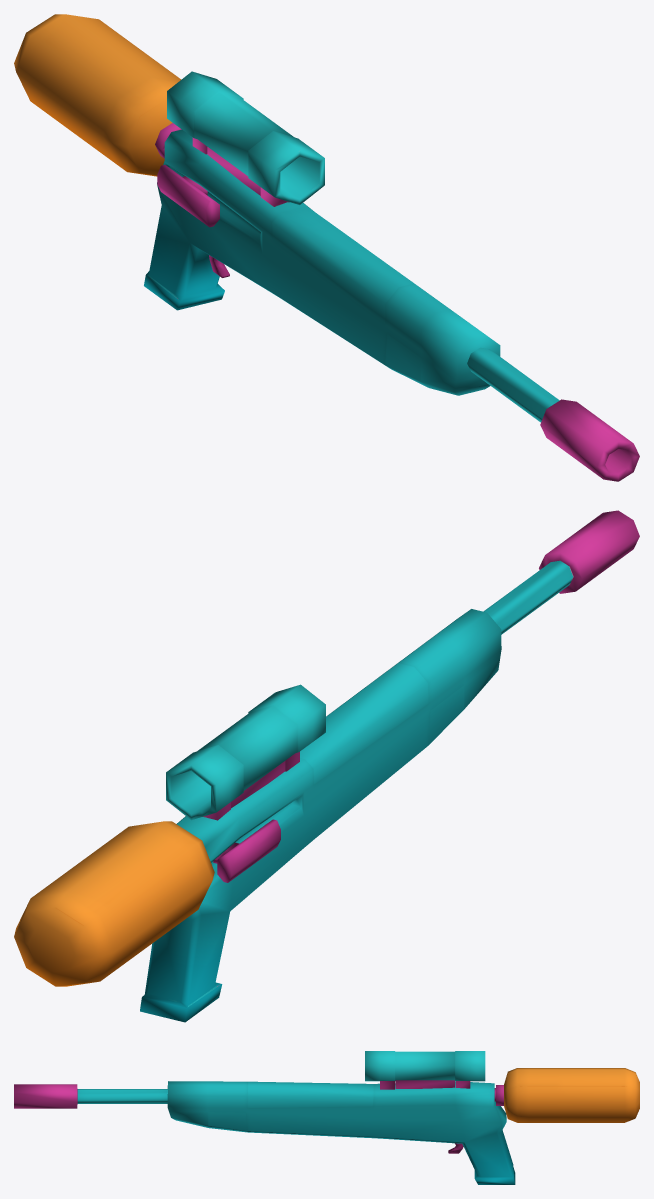
The model's file is RifleGunfix.glb.
3 renders of one model, top to bottom at view 1: azimuth 30°, elevation 25°; view 2: azimuth 150°, elevation 25°; view 3: azimuth 270°, elevation 25°, orthographic. The views are drawn at different scales.
Parts seen in each view (by area): view 1: Body.001, Barrel, Scope, Muzzle.001, Reload Handle; view 2: Body.001, Barrel, Scope, Muzzle.001, Reload Handle; view 3: Body.001, Barrel, Scope, Muzzle.001.
Part boxes in pixels (x1,y1,x2,y2): Body.001: [144, 129, 500, 395]; Barrel: [14, 14, 181, 176]; Scope: [167, 71, 324, 206]; Muzzle.001: [467, 347, 639, 481]; Reload Handle: [157, 165, 219, 227]; Body.001: [140, 609, 501, 1022]; Barrel: [14, 821, 214, 986]; Scope: [166, 684, 325, 820]; Muzzle.001: [483, 510, 639, 634]; Reload Handle: [213, 819, 280, 882]; Body.001: [167, 1081, 515, 1184]; Barrel: [496, 1068, 639, 1122]; Scope: [365, 1051, 485, 1089]; Muzzle.001: [14, 1084, 167, 1108].
Size of the model in its own units: 0.1648 by 0.3717 by 1.65.
Materials: 1 (1 with a texture image).
